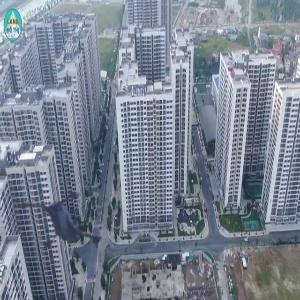drone: (28, 175, 125, 272)
